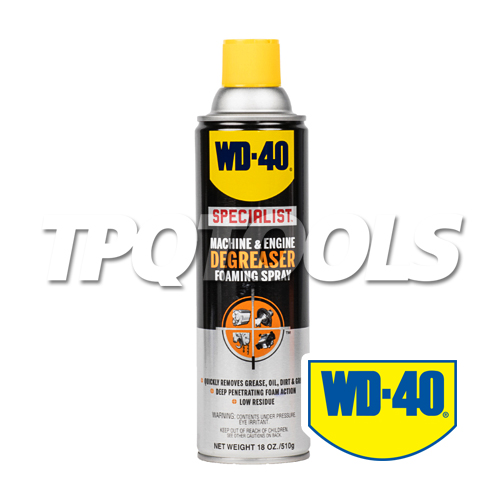Cleaning_solution: (190, 32, 318, 466)
